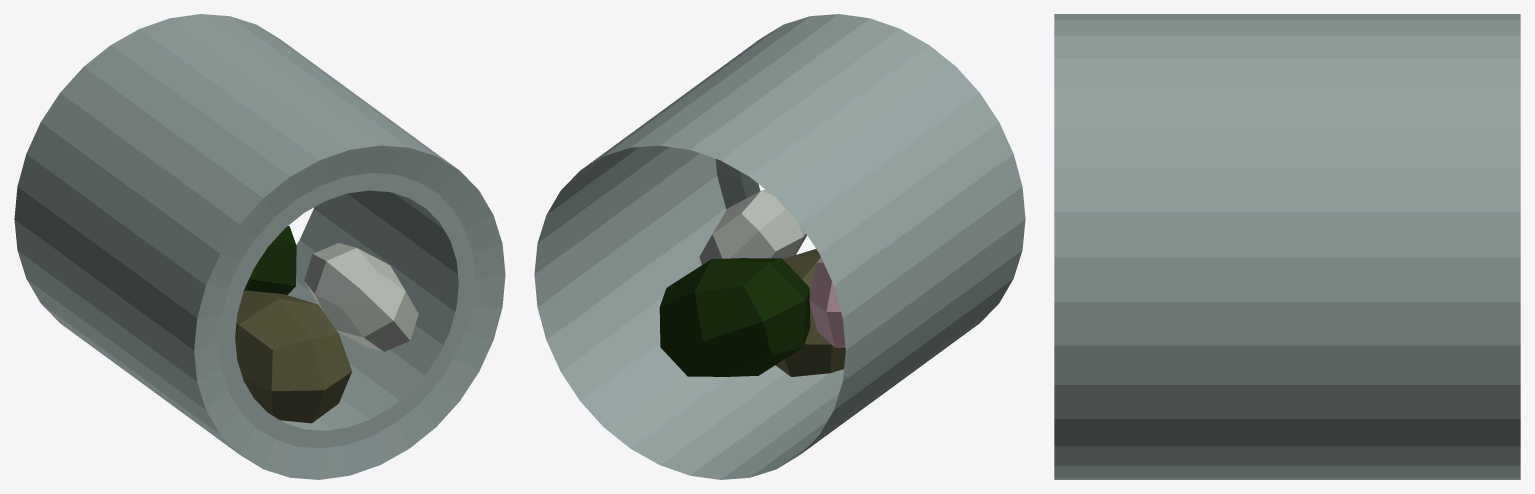
Rendered from eyt_drum.gltf.
The picture shows the model from 3 angles, left to right: view 1: azimuth 30°, elevation 25°; view 2: azimuth 150°, elevation 25°; view 3: azimuth 270°, elevation 25°; orthographic projection. The views are drawn at different scales.
Visible parts, largest first — view 1: Cylinder.021, Cube.044, Cube.045, Cube.043; view 2: Cylinder.021, Cube.043, Cube.045, Cube.044, Cube.046; view 3: Cylinder.021.
Boxes of the visible parts, x1=… form: Cylinder.021: x1=14, y1=14, x2=505, y2=479; Cube.044: x1=235, y1=290, x2=351, y2=423; Cube.045: x1=304, y1=243, x2=418, y2=351; Cube.043: x1=243, y1=226, x2=296, y2=294; Cylinder.021: x1=534, y1=14, x2=1025, y2=479; Cube.043: x1=659, y1=258, x2=810, y2=376; Cube.045: x1=699, y1=189, x2=806, y2=264; Cube.044: x1=775, y1=249, x2=845, y2=376; Cube.046: x1=809, y1=257, x2=845, y2=347; Cylinder.021: x1=1054, y1=14, x2=1520, y2=479.
Bounding box in the file's own units: 0.5135 × 0.5135 × 0.5135.
